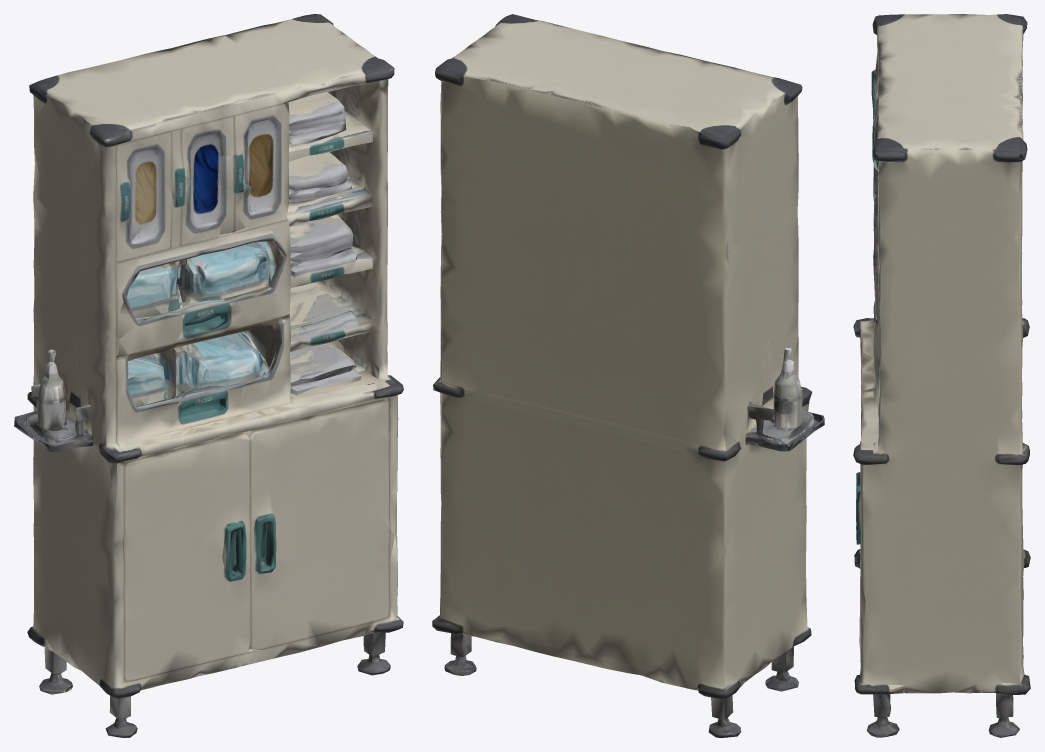
Rendered from SD_PPEStation.fbx.
3 views of the same model, side by side, from view 1: azimuth 30°, elevation 25°; view 2: azimuth 150°, elevation 25°; view 3: azimuth 270°, elevation 25° (orthographic). The views are drawn at different scales.
Visible parts, largest first — view 1: SD_PPEStation_LOD0; view 2: SD_PPEStation_LOD0; view 3: SD_PPEStation_LOD0.
Part boxes in pixels (x1=…): SD_PPEStation_LOD0: x1=14, y1=14, x2=403, y2=737; SD_PPEStation_LOD0: x1=432, y1=14, x2=824, y2=737; SD_PPEStation_LOD0: x1=853, y1=14, x2=1030, y2=737.
Size of what is drawn, in the model's own units: 95 by 165 by 45.
